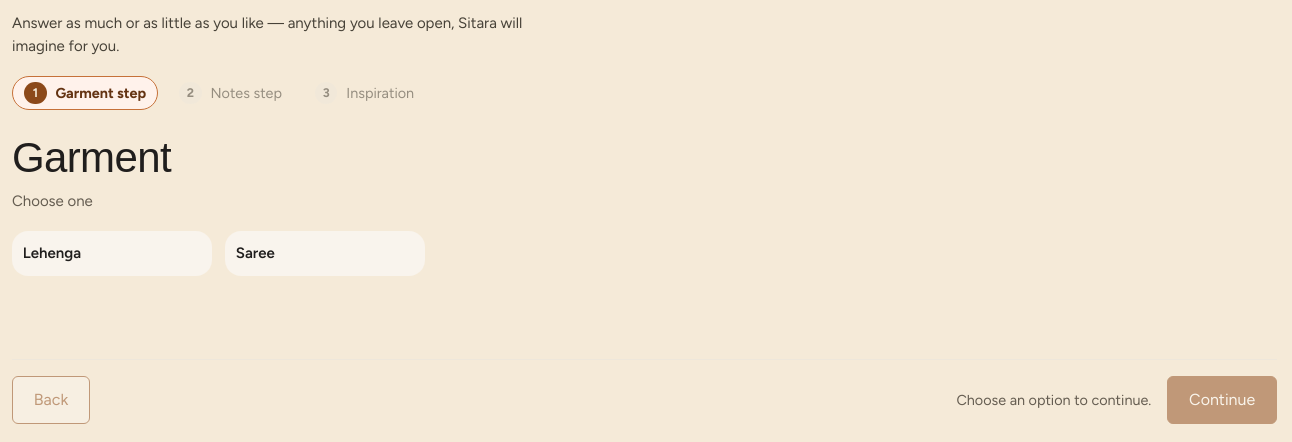
Test case: save coordinator › 4: does not show Saved while a newer revision is still pending
Click the radio button labelled "Lehenga" at (112, 254), box [12, 231, 212, 276]
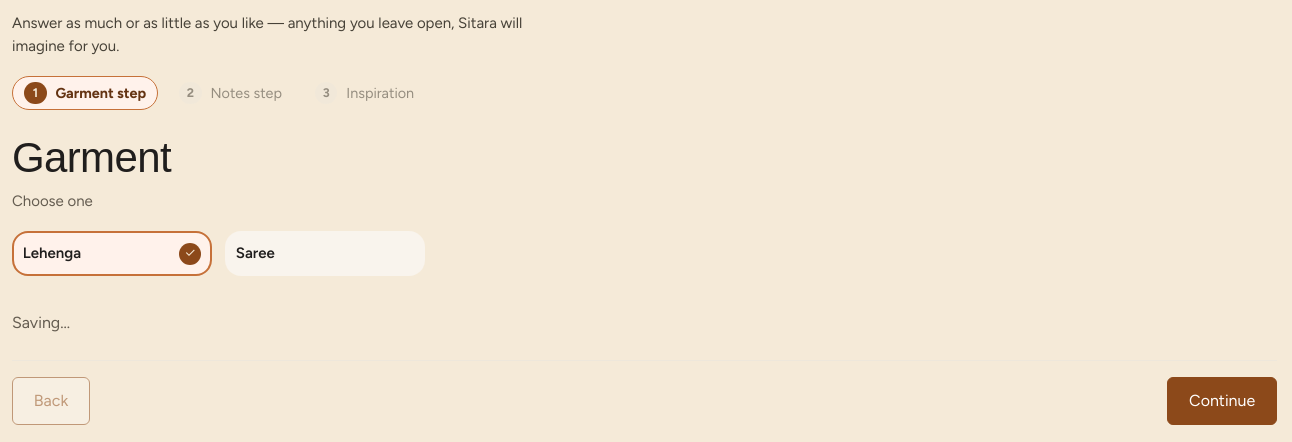
Click the radio button labelled "Saree" at (325, 254), box [225, 231, 425, 276]
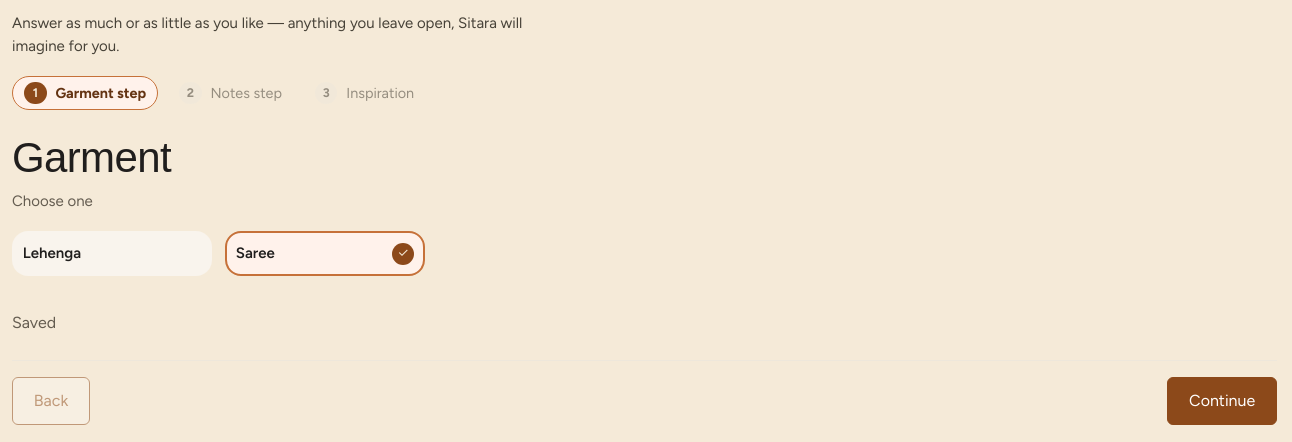
Now the text "Saved" is shown, box [12, 313, 56, 332]
